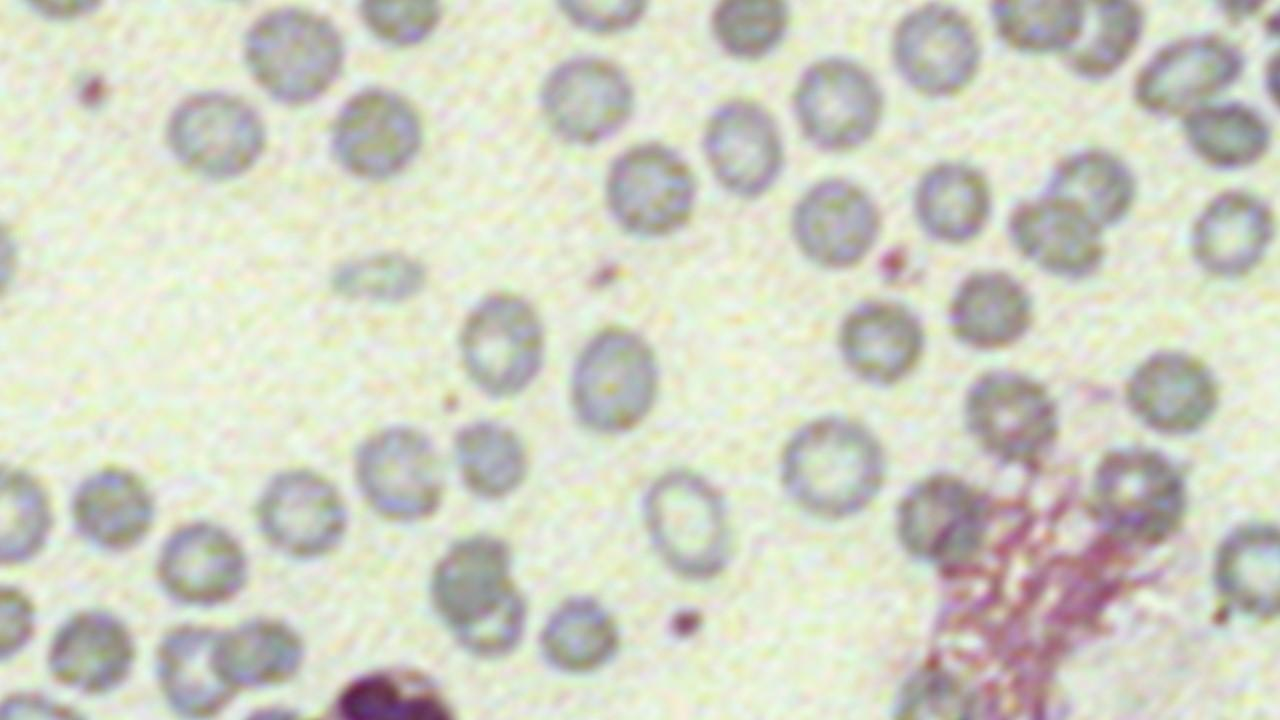RBC: (448, 286, 550, 403), (1127, 28, 1249, 124), (532, 48, 642, 153), (788, 49, 890, 159), (249, 462, 356, 565), (348, 420, 449, 528), (696, 90, 790, 205), (600, 137, 701, 243), (151, 514, 254, 612), (886, 2, 984, 104), (424, 526, 517, 632), (41, 603, 142, 699), (64, 458, 158, 560), (152, 616, 244, 717), (908, 154, 998, 251), (207, 611, 310, 693), (0, 453, 60, 570), (0, 573, 43, 673)
